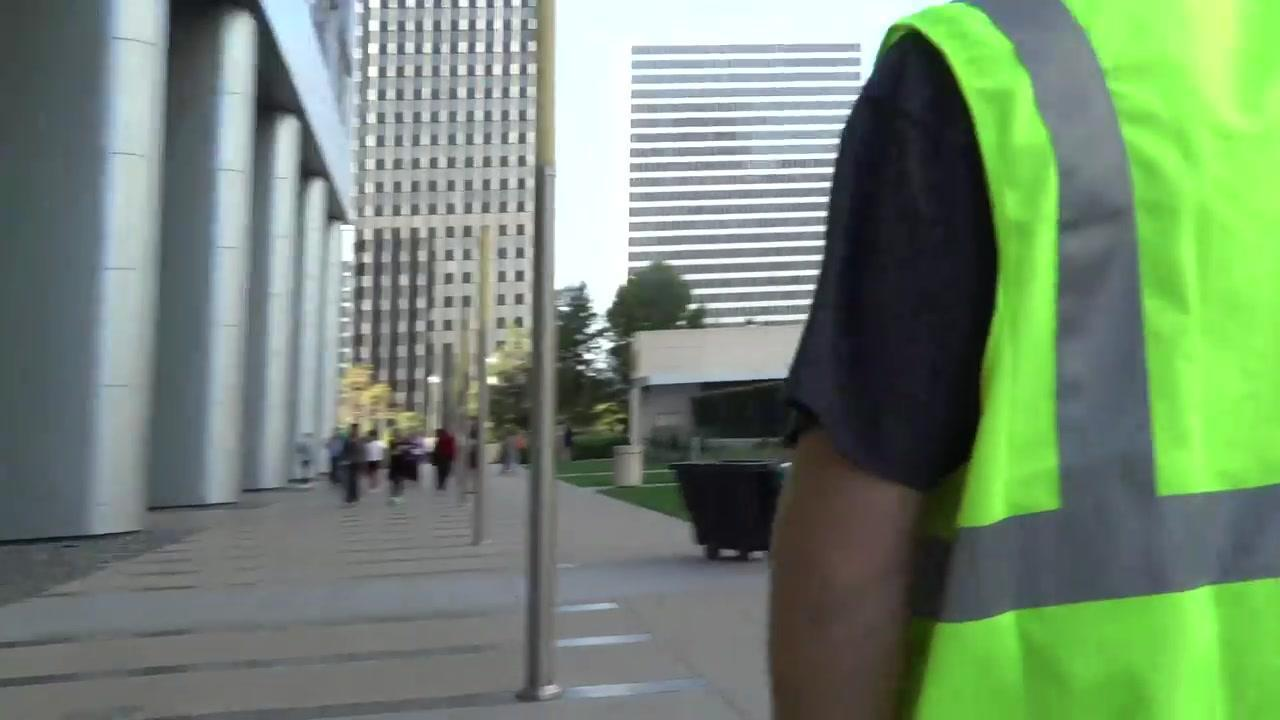vest: (871, 2, 1279, 717)
